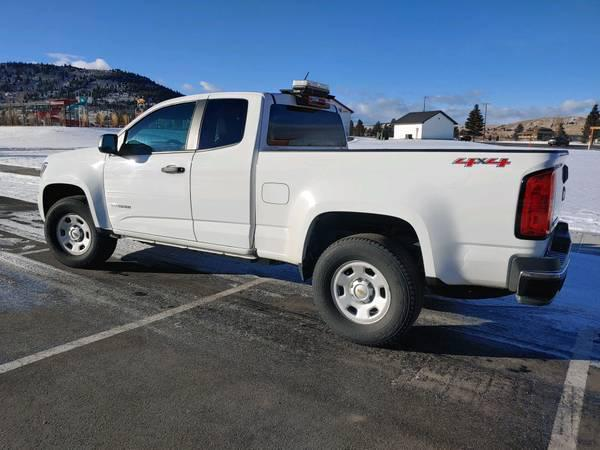Front_Fender: (38, 147, 112, 236)
Front_Left_Door: (103, 147, 196, 246)
Front_Left_Window: (106, 95, 207, 152)
Left_Taillight: (516, 165, 561, 240)
Rear_Bumper: (507, 220, 574, 304)
Rear_Fender: (253, 149, 562, 287)
Rear_Left_Door: (190, 147, 256, 252)
Rear_Left_Window: (194, 94, 261, 150)
Rear_Windshield: (256, 96, 350, 149)
Wheel: (312, 234, 425, 346), (42, 195, 117, 270)
